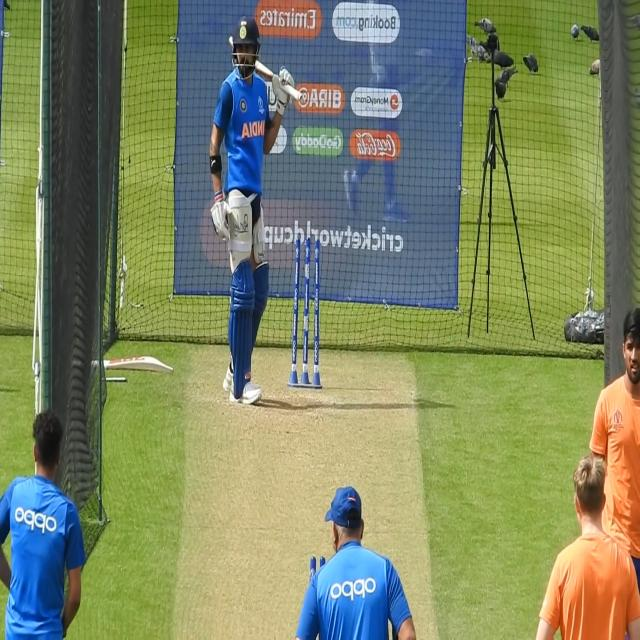stump: (288, 234, 323, 391)
